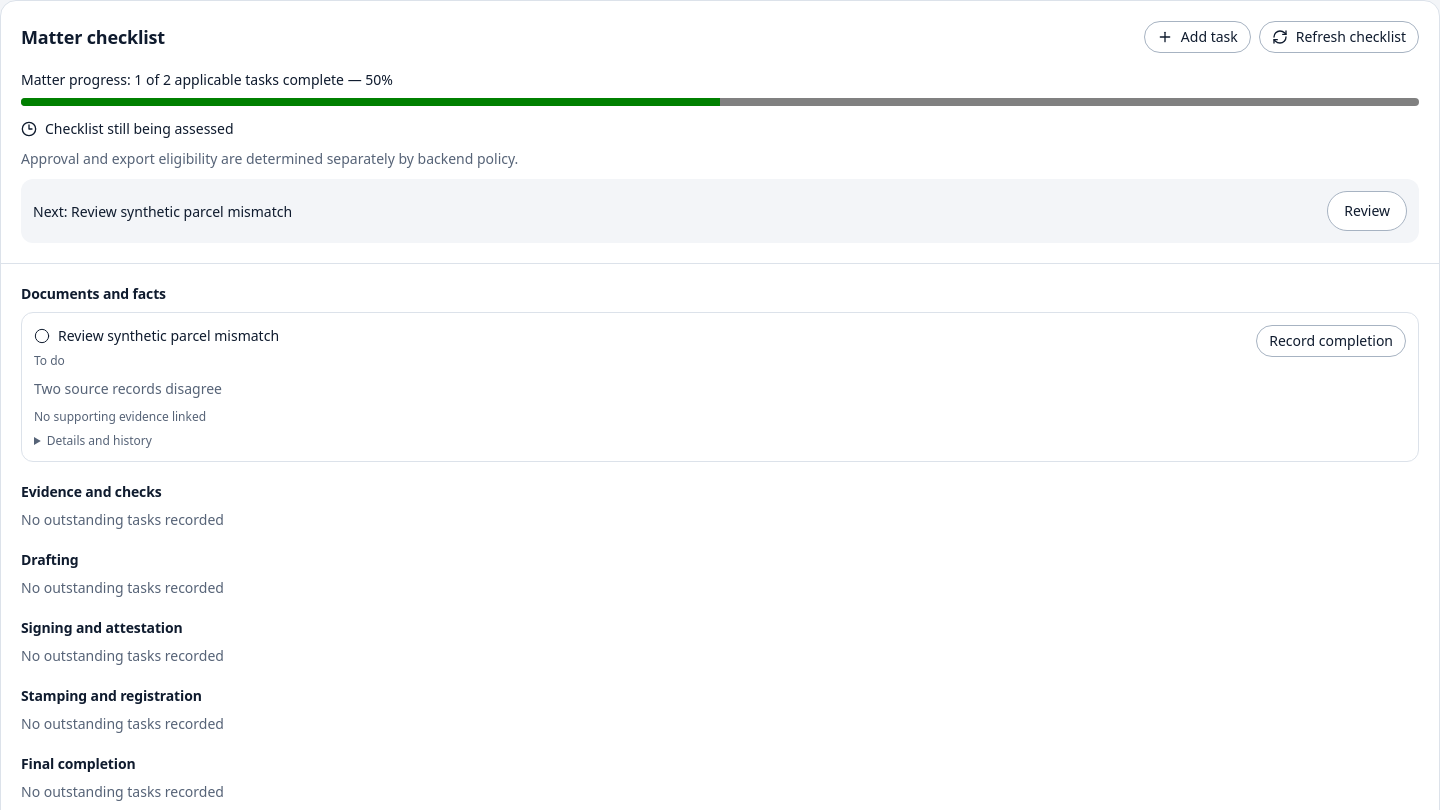
Test: finishes overlapping history and evidence reads independently
What coordinates should you click on to do the following:
click the button "Record completion"
I would click on:
 (1331, 341)
Its box is [1256,325,1406,357].
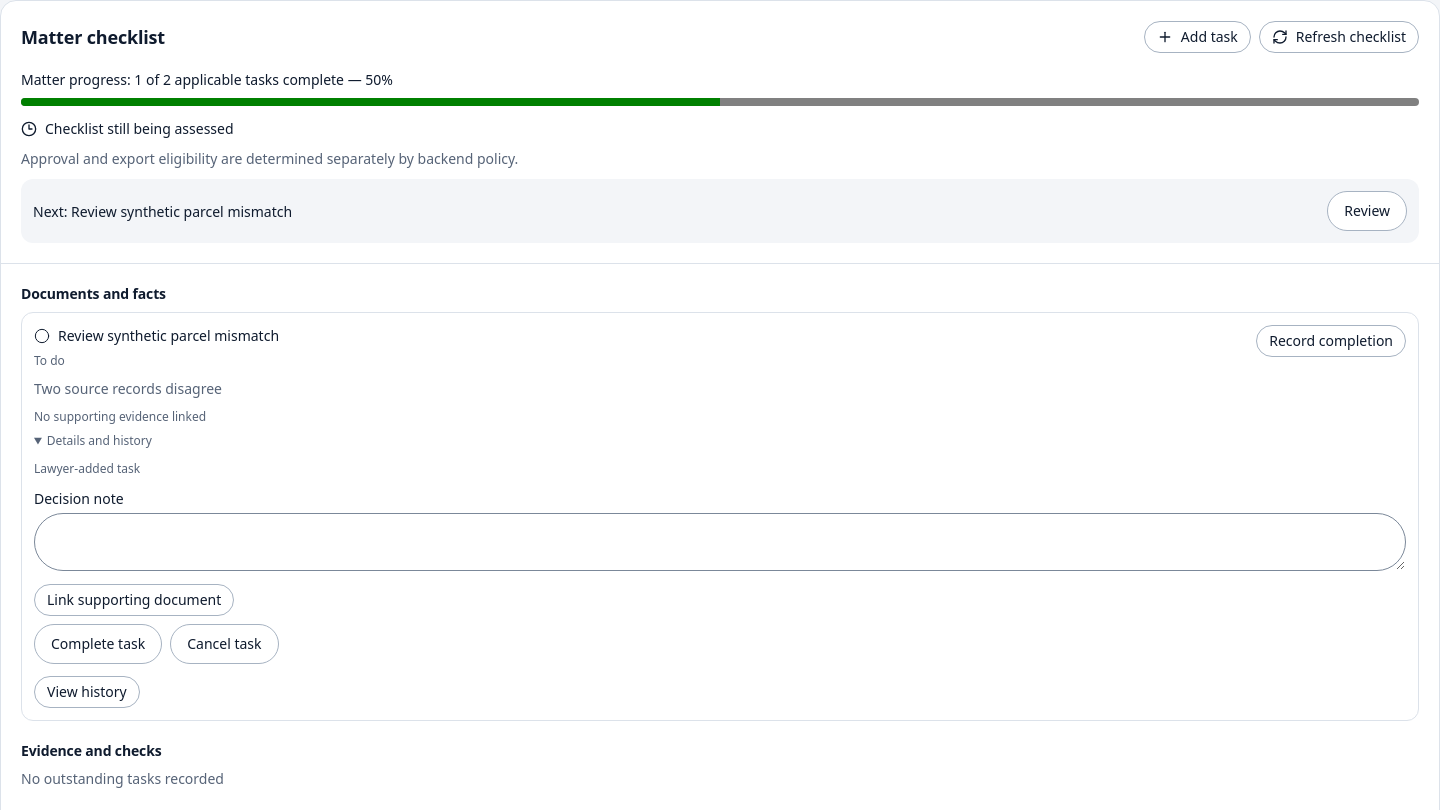
What coordinates should you click on to do the following:
click the button "View history"
I would click on:
 (87, 692)
Its box is [34,676,140,708].
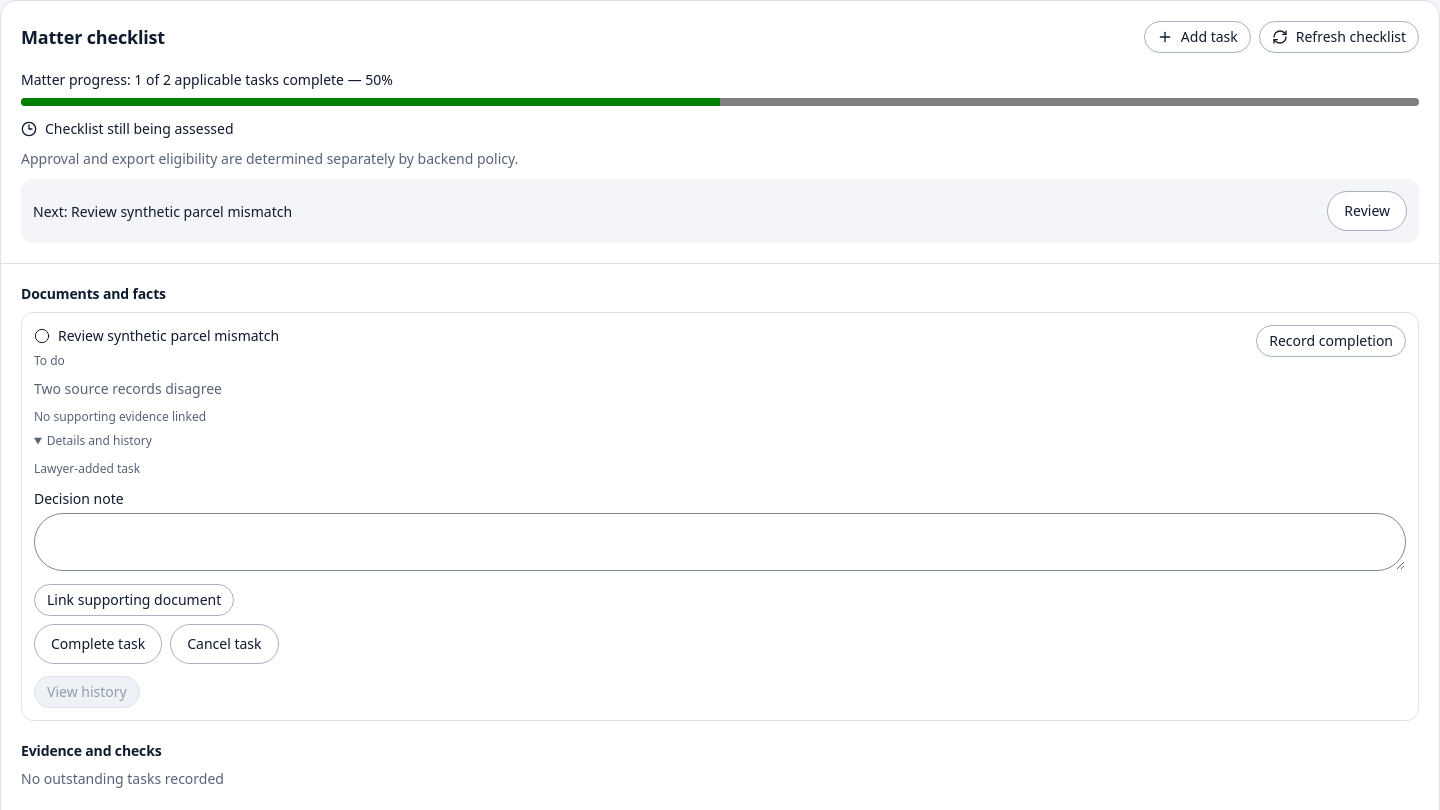
What coordinates should you click on to do the following:
click the button "Link supporting document"
I would click on:
 (134, 600)
Its box is [34,584,234,616].
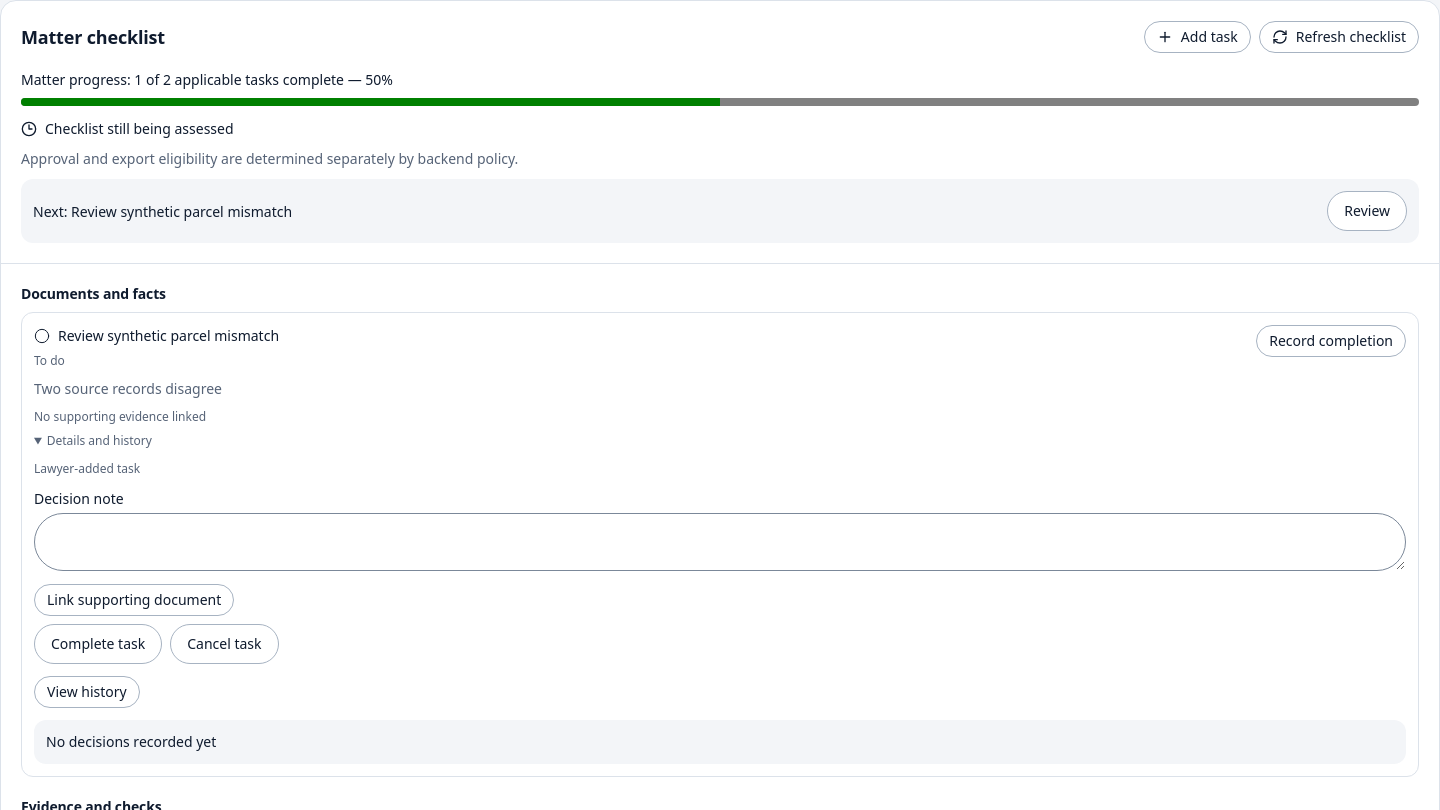
Check: the button "Link supporting document" is enabled, box [34,584,234,616]
Check: the button "View history" is enabled, box [34,676,140,708]
Check: the text "No decisions recorded yet" is shown, box [46,732,216,750]
